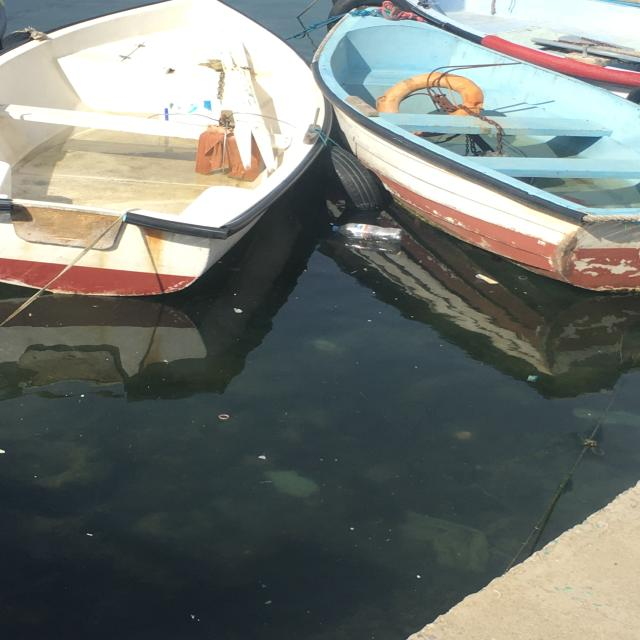Bottle cap: (218, 414, 230, 421), (517, 274, 529, 280)
Plastic Bottle: (331, 222, 403, 242)
Plastic bag: (396, 508, 492, 577), (262, 468, 322, 500)
Undefined trash: (474, 273, 500, 285), (526, 373, 539, 383)
